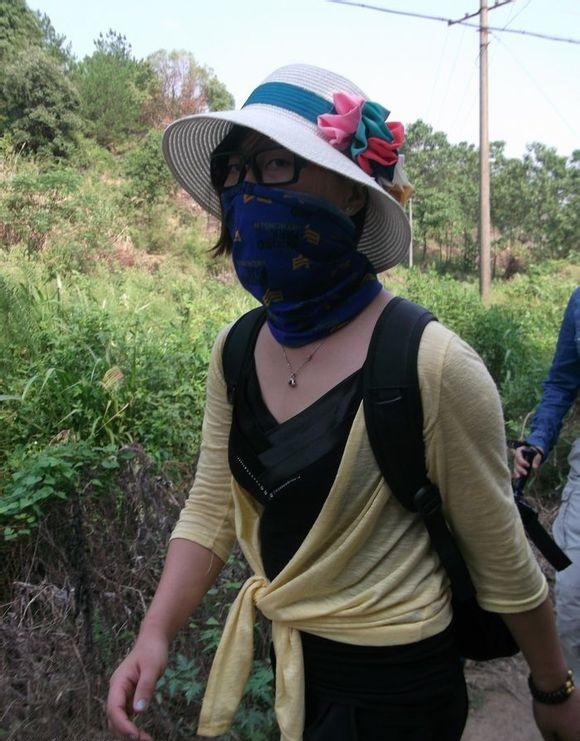OK: (216, 132, 345, 280)
